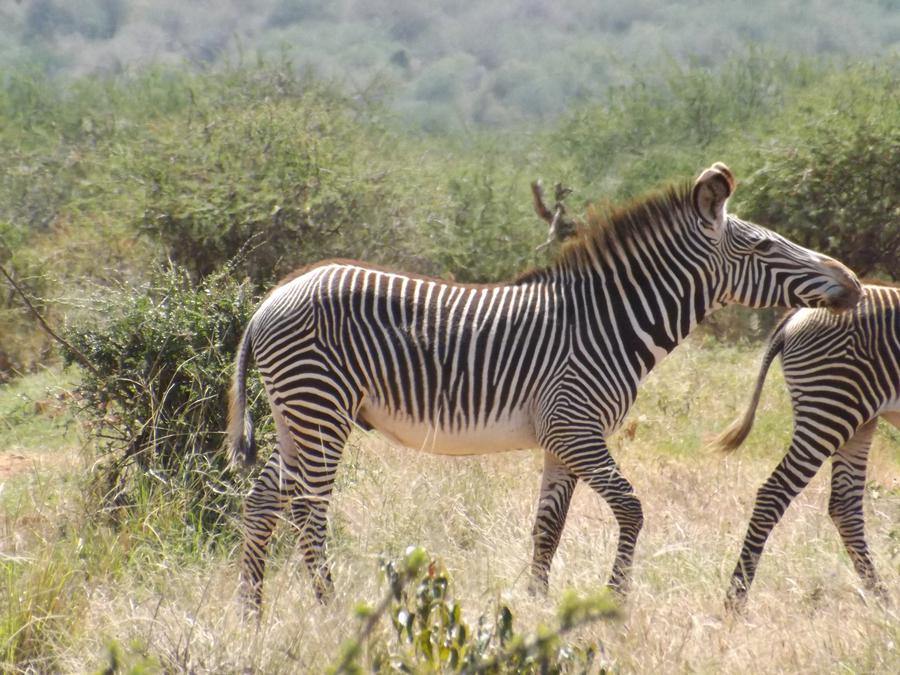zebra_grevys: (242, 239, 609, 443)
